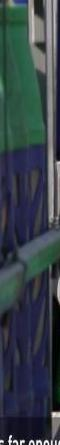cylinder: (1, 1, 60, 445)
